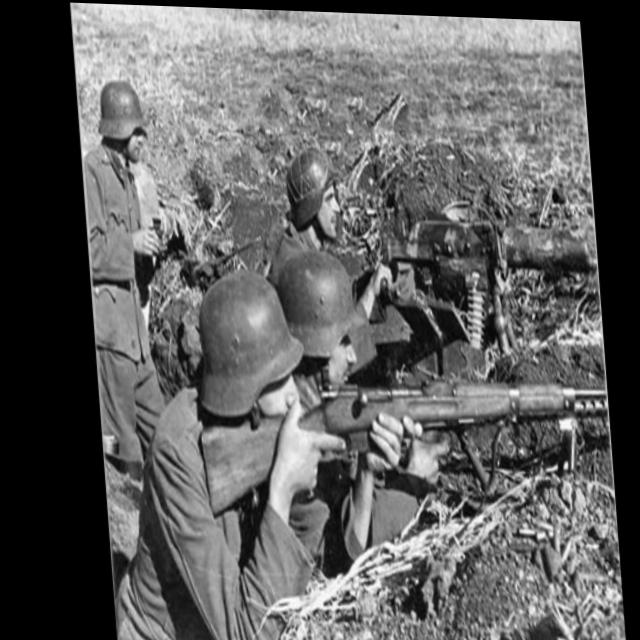other: (123, 271, 341, 623), (73, 95, 160, 403), (274, 250, 356, 387), (253, 159, 343, 272)
